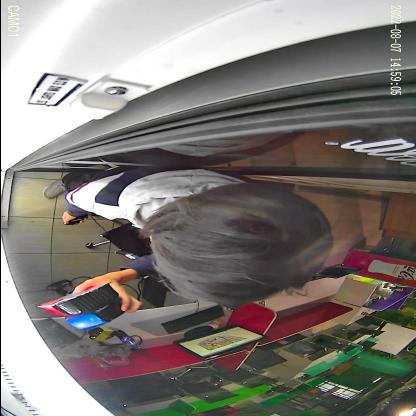blue: (64, 299, 126, 331)
red: (36, 280, 118, 316)
